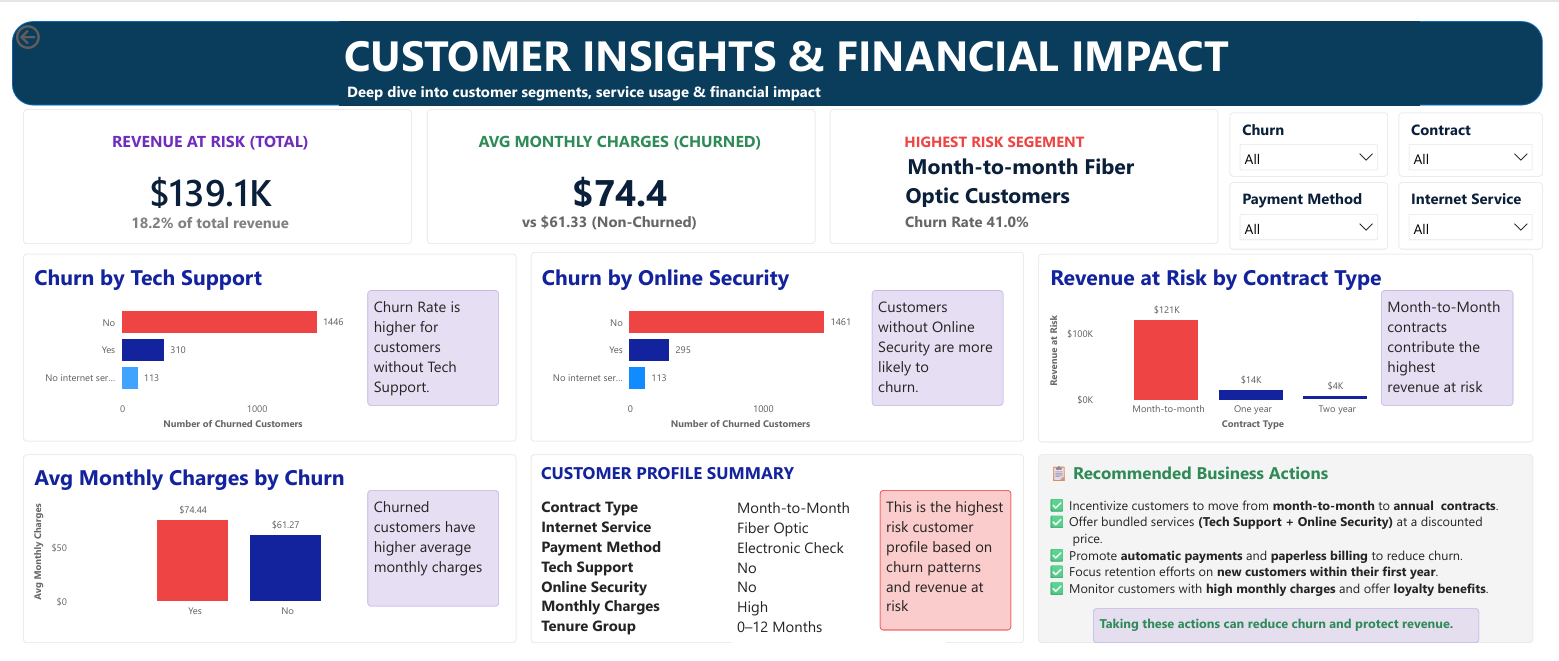

Layout of this report page (visuals, bound fields, positions):
{"tool":"powerbi","page":{"name":"Customer Insights & Financial Impact","canvas":[1930,800],"ordinal":1},"visuals":[{"type":"shape","box":[1293.8,292.5,623.8,238.8],"z":0},{"type":"shape","box":[653.8,291.2,622.5,238.8],"z":1000},{"type":"shape","box":[13.8,292.5,622.5,237.5],"z":2000},{"type":"shape","box":[13.8,111.2,490,170],"z":3000},{"type":"cardVisual","fields":{"Data":["Customer_Churn.Revenue at Risk"]},"box":[63.8,118.8,372.5,142.5],"z":4000},{"type":"shape","box":[0,0,1930,106.2],"z":5000},{"type":"textbox","box":[412.5,0,1362.5,106.2],"z":6000},{"type":"textbox","box":[116.2,236.2,266.2,41.2],"z":7000},{"type":"clusteredBarChart","title":"Churn by Tech Support","fields":{"Category":["Customer_Churn.Tech Support"],"Y":["Customer_Churn.Churned Customers"]},"box":[22.5,302.5,413.8,217.5],"z":8000},{"type":"clusteredBarChart","title":"Churn by Online Security","fields":{"Y":["Customer_Churn.Churned Customers"],"Category":["Customer_Churn.Online Security"]},"box":[662.5,302.5,413,217.5],"z":9000},{"type":"clusteredColumnChart","title":"Revenue at Risk by Contract Type","fields":{"Y":["Customer_Churn.Revenue at Risk"],"Category":["Customer_Churn.Contract"]},"box":[1303.8,302.5,457.5,217.5],"z":10000},{"type":"shape","box":[522.5,111.2,490,170],"z":11000},{"type":"cardVisual","fields":{"Data":["Customer_Churn.Avg Monthly Charges (Churned)"]},"box":[555,118.8,423.8,142.5],"z":12000},{"type":"textbox","box":[637.5,235,233.8,42.5],"z":13000},{"type":"shape","box":[1031.2,111.2,490,170],"z":14000},{"type":"textbox","box":[1047.5,133.8,441.2,143.8],"z":15000},{"type":"textbox","box":[1121.2,235,256.2,41.2],"z":16000},{"type":"textbox","box":[1293.8,546.2,623.8,237.5],"z":17000},{"type":"shape","box":[13.8,546.2,622.5,237.5],"z":18000},{"type":"clusteredColumnChart","fields":{"Category":["Customer_Churn.Churn"],"Y":["Customer_Churn.Avg Monthly Charges"]},"box":[22.5,556.2,481.2,217.5],"z":19000},{"type":"textbox","box":[447.5,338.8,166.2,146.2],"z":20000},{"type":"textbox","box":[1083.8,338.8,166.2,146.2],"z":21000},{"type":"textbox","box":[1726.2,338.8,166.2,146.2],"z":22000},{"type":"textbox","box":[653.8,546.2,622.5,237.5],"z":23000},{"type":"textbox","box":[908.8,595,268.8,188.8],"z":24000},{"type":"slicer","fields":{"Values":["Customer_Churn.Churn"]},"box":[1535,115,200,81.2],"z":25000},{"type":"slicer","fields":{"Values":["Customer_Churn.Contract"]},"box":[1747.5,115,182.5,81.2],"z":26000},{"type":"slicer","fields":{"Values":["Customer_Churn.Internet Service"]},"box":[1747.5,202.5,182.5,85],"z":27000},{"type":"slicer","fields":{"Values":["Customer_Churn.Payment Method"]},"box":[1535,202.5,200,85],"z":28000},{"type":"actionButton","box":[0,0,100,40],"z":29000},{"type":"textbox","box":[447.5,591.2,166.2,146.2],"z":30000},{"type":"textbox","box":[1093.8,591.2,166.2,176.2],"z":31000},{"type":"textbox","box":[1362.5,740,487.5,43.8],"z":32000}]}

Visuals, with their boxes in screenshot pixels (x1, y1, x2, y2), scaled from the page's 1930x800 canvas onto the 1559x661 screenshot:
shape: {"x1": 1045, "y1": 242, "x2": 1549, "y2": 439}
shape: {"x1": 528, "y1": 241, "x2": 1031, "y2": 438}
shape: {"x1": 11, "y1": 242, "x2": 514, "y2": 438}
shape: {"x1": 11, "y1": 92, "x2": 407, "y2": 232}
cardVisual - Customer_Churn.Revenue at Risk: {"x1": 52, "y1": 98, "x2": 352, "y2": 216}
shape: {"x1": 0, "y1": 0, "x2": 1558, "y2": 88}
textbox: {"x1": 333, "y1": 0, "x2": 1434, "y2": 88}
textbox: {"x1": 94, "y1": 195, "x2": 309, "y2": 229}
"Churn by Tech Support" clusteredBarChart: {"x1": 18, "y1": 250, "x2": 352, "y2": 430}
"Churn by Online Security" clusteredBarChart: {"x1": 535, "y1": 250, "x2": 869, "y2": 430}
"Revenue at Risk by Contract Type" clusteredColumnChart: {"x1": 1053, "y1": 250, "x2": 1423, "y2": 430}
shape: {"x1": 422, "y1": 92, "x2": 818, "y2": 232}
cardVisual - Customer_Churn.Avg Monthly Charges (Churned): {"x1": 448, "y1": 98, "x2": 791, "y2": 216}
textbox: {"x1": 515, "y1": 194, "x2": 704, "y2": 229}
shape: {"x1": 833, "y1": 92, "x2": 1229, "y2": 232}
textbox: {"x1": 846, "y1": 111, "x2": 1203, "y2": 229}
textbox: {"x1": 906, "y1": 194, "x2": 1113, "y2": 228}
textbox: {"x1": 1045, "y1": 451, "x2": 1549, "y2": 648}
shape: {"x1": 11, "y1": 451, "x2": 514, "y2": 648}
clusteredColumnChart - Customer_Churn.Churn x Customer_Churn.Avg Monthly Charges: {"x1": 18, "y1": 460, "x2": 407, "y2": 639}
textbox: {"x1": 361, "y1": 280, "x2": 496, "y2": 401}
textbox: {"x1": 875, "y1": 280, "x2": 1010, "y2": 401}
textbox: {"x1": 1394, "y1": 280, "x2": 1529, "y2": 401}
textbox: {"x1": 528, "y1": 451, "x2": 1031, "y2": 648}
textbox: {"x1": 734, "y1": 492, "x2": 951, "y2": 648}
slicer - Customer_Churn.Churn: {"x1": 1240, "y1": 95, "x2": 1401, "y2": 162}
slicer - Customer_Churn.Contract: {"x1": 1412, "y1": 95, "x2": 1558, "y2": 162}
slicer - Customer_Churn.Internet Service: {"x1": 1412, "y1": 167, "x2": 1558, "y2": 238}
slicer - Customer_Churn.Payment Method: {"x1": 1240, "y1": 167, "x2": 1401, "y2": 238}
actionButton: {"x1": 0, "y1": 0, "x2": 81, "y2": 33}
textbox: {"x1": 361, "y1": 488, "x2": 496, "y2": 609}
textbox: {"x1": 884, "y1": 488, "x2": 1018, "y2": 634}
textbox: {"x1": 1101, "y1": 611, "x2": 1494, "y2": 648}
